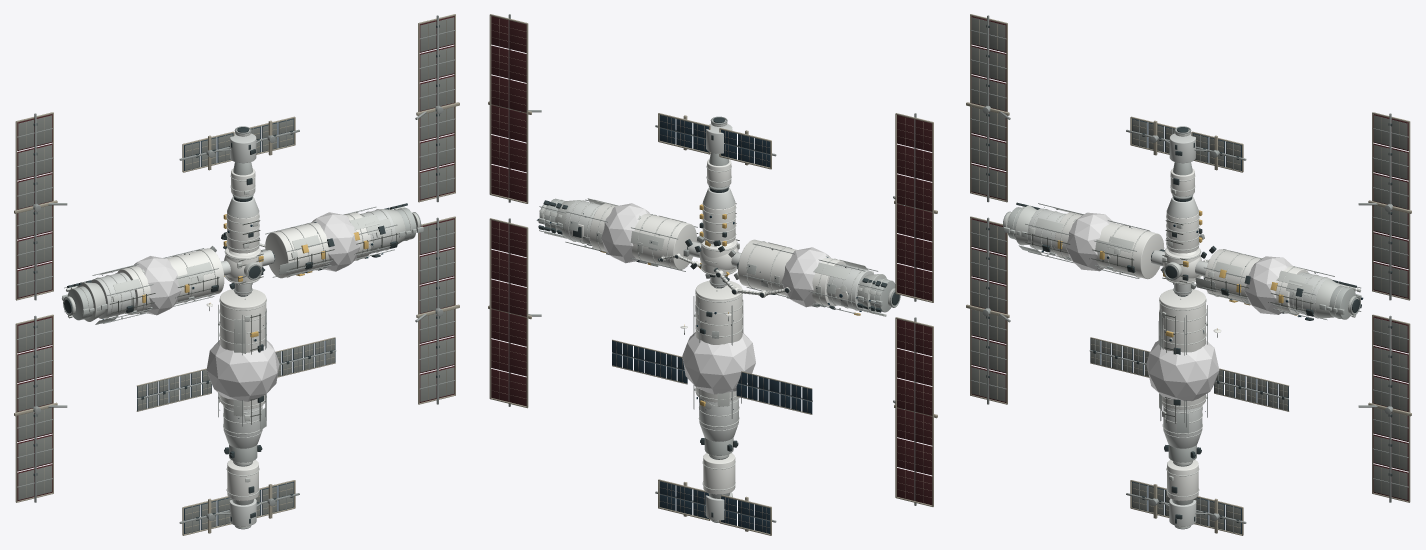
Rendered from station-exterior.glb.
3 views of the same model, side by side, from view 1: azimuth 30°, elevation 25°; view 2: azimuth 150°, elevation 25°; view 3: azimuth 330°, elevation 25° (orthographic).
Visible parts, largest first — view 1: STA_Solar_Array_Upper_Left, STA_Solar_Array_Lower_Left, STA_Solar_Array_Upper_Right, STA_Solar_Array_Lower_Right, HOTSPOT_Module_Tianhe, STA_Mengtian_WorkingCabin_Shell, STA_Wentian_WorkingCabin_Shell, STA_Tianhe_LifeControlLarge_Shell, STA_Solar_Array_Core_Left, HOTSPOT_Module_Wentian, HOTSPOT_Module_Mengtian, STA_Solar_Array_Core_Right (+16 smaller); view 2: STA_Solar_Array_Lower_Right, STA_Solar_Array_Upper_Right, STA_Solar_Array_Upper_Left, STA_Solar_Array_Lower_Left, HOTSPOT_Module_Tianhe, STA_Mengtian_WorkingCabin_Shell, STA_Wentian_WorkingCabin_Shell, STA_Tianhe_LifeControlLarge_Shell, STA_Solar_Array_Core_Left, STA_Solar_Array_Core_Right, HOTSPOT_Module_Mengtian, HOTSPOT_Module_Wentian (+15 smaller); view 3: STA_Solar_Array_Upper_Right, STA_Solar_Array_Lower_Right, STA_Solar_Array_Upper_Left, STA_Solar_Array_Lower_Left, HOTSPOT_Module_Tianhe, STA_Wentian_WorkingCabin_Shell, STA_Tianhe_LifeControlLarge_Shell, STA_Mengtian_WorkingCabin_Shell, STA_Solar_Array_Core_Right, HOTSPOT_Module_Wentian, HOTSPOT_Module_Mengtian, STA_Solar_Array_Core_Left (+17 smaller).
Part boxes in pixels (bbox=[...]): STA_Solar_Array_Upper_Left: bbox=[17, 114, 53, 298]; STA_Solar_Array_Lower_Left: bbox=[17, 316, 53, 501]; STA_Solar_Array_Upper_Right: bbox=[419, 16, 455, 200]; STA_Solar_Array_Lower_Right: bbox=[419, 218, 455, 402]; HOTSPOT_Module_Tianhe: bbox=[206, 340, 279, 401]; STA_Mengtian_WorkingCabin_Shell: bbox=[265, 212, 371, 278]; STA_Wentian_WorkingCabin_Shell: bbox=[117, 248, 224, 314]; STA_Tianhe_LifeControlLarge_Shell: bbox=[220, 289, 266, 352]; STA_Solar_Array_Core_Left: bbox=[137, 369, 211, 410]; HOTSPOT_Module_Wentian: bbox=[134, 256, 181, 315]; HOTSPOT_Module_Mengtian: bbox=[311, 212, 360, 271]; STA_Solar_Array_Core_Right: bbox=[276, 338, 335, 376]; STA_Solar_Array_Lower_Right: bbox=[491, 220, 526, 406]; STA_Solar_Array_Upper_Right: bbox=[491, 16, 526, 201]; STA_Solar_Array_Upper_Left: bbox=[897, 115, 932, 300]; STA_Solar_Array_Lower_Left: bbox=[897, 319, 932, 505]; HOTSPOT_Module_Tianhe: bbox=[682, 332, 755, 394]; STA_Mengtian_WorkingCabin_Shell: bbox=[590, 203, 696, 269]; STA_Wentian_WorkingCabin_Shell: bbox=[738, 239, 845, 306]; STA_Tianhe_LifeControlLarge_Shell: bbox=[695, 280, 742, 344]; STA_Solar_Array_Core_Left: bbox=[736, 372, 812, 413]; STA_Solar_Array_Core_Right: bbox=[612, 340, 687, 383]; HOTSPOT_Module_Mengtian: bbox=[601, 203, 649, 263]; HOTSPOT_Module_Wentian: bbox=[781, 247, 830, 307]; STA_Solar_Array_Upper_Right: bbox=[1372, 114, 1408, 298]; STA_Solar_Array_Lower_Right: bbox=[1372, 316, 1408, 501]; STA_Solar_Array_Upper_Left: bbox=[970, 16, 1006, 200]; STA_Solar_Array_Lower_Left: bbox=[970, 218, 1006, 402]; HOTSPOT_Module_Tianhe: bbox=[1146, 340, 1219, 401]; STA_Wentian_WorkingCabin_Shell: bbox=[1054, 212, 1164, 279]; STA_Tianhe_LifeControlLarge_Shell: bbox=[1159, 289, 1205, 352]; STA_Mengtian_WorkingCabin_Shell: bbox=[1205, 249, 1308, 314]; STA_Solar_Array_Core_Right: bbox=[1214, 369, 1288, 410]; HOTSPOT_Module_Wentian: bbox=[1065, 212, 1114, 271]; HOTSPOT_Module_Mengtian: bbox=[1244, 256, 1293, 314]; STA_Solar_Array_Core_Left: bbox=[1090, 338, 1149, 377].
Size of the model in its own units: 46.02 by 45.31 by 6.7.
